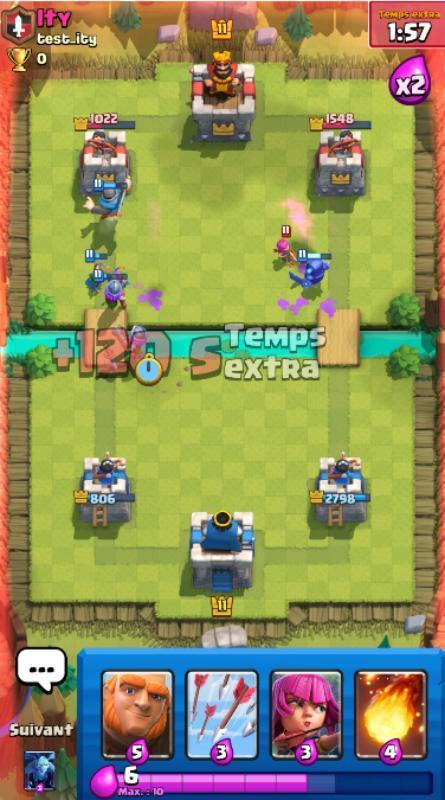enemy_archers: (270, 227, 294, 264)
player_archers: (86, 251, 107, 290)
player_knight: (80, 177, 134, 222)
player_mini_pekka: (286, 247, 333, 292)
player_musketeer: (97, 269, 132, 313), (114, 320, 148, 359)
